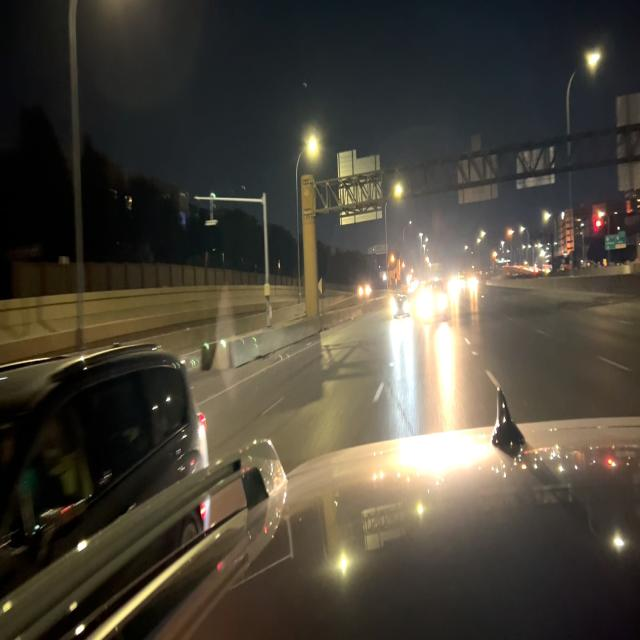back-of-sign: (336, 147, 383, 228), (458, 137, 500, 207), (614, 91, 640, 197), (515, 140, 557, 188)
